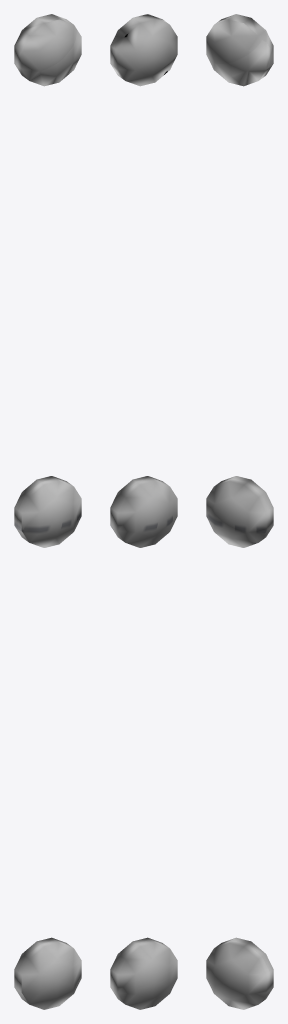
The model's file is UpperTorso_C2.fbx.
3 views of the same model, side by side, from view 1: azimuth 30°, elevation 25°; view 2: azimuth 210°, elevation 25°; view 3: azimuth 330°, elevation 25° (orthographic).
Parts seen in each view (by area): view 1: Civ_PilotoLargo_UpperTorso_C2; view 2: Civ_PilotoLargo_UpperTorso_C2; view 3: Civ_PilotoLargo_UpperTorso_C2.
Boxes of the visible parts, x1,y1,x2,y2 form: Civ_PilotoLargo_UpperTorso_C2: (14, 14, 81, 1009); Civ_PilotoLargo_UpperTorso_C2: (110, 14, 177, 1009); Civ_PilotoLargo_UpperTorso_C2: (206, 14, 273, 1009).
Bounding box in the file's own units: 0.0634 × 0.9978 × 0.0386.
